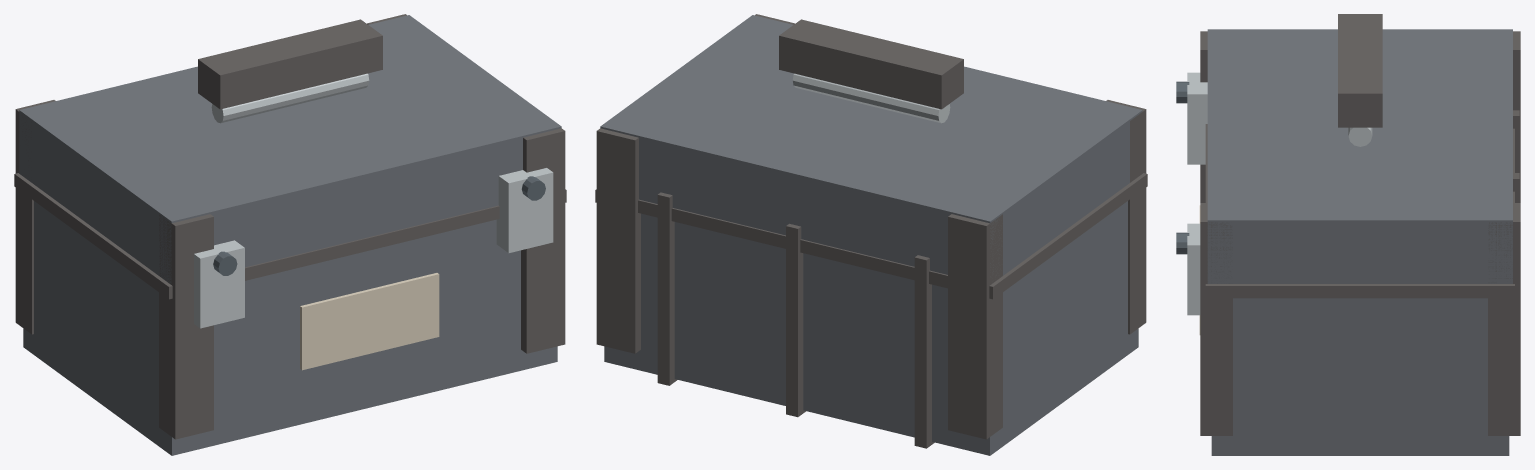
3 renders of one model, left to right at view 1: azimuth 30°, elevation 25°; view 2: azimuth 150°, elevation 25°; view 3: azimuth 270°, elevation 25°, orthographic.
Visible parts, largest first — view 1: TH-008__001__Raised box lid, TH-008__000__Rugged injection-molded body, TH-008__007__Corner reinforcements, TH-008__012__Rubber carry grip, TH-008__016__Scraped inventory label plate, TH-008__009__Corner reinforcements, TH-008__002__Gasket lid seam, TH-008__005__Steel lock claw, TH-008__003__Steel lock claw, TH-008__008__Corner reinforcements, TH-008__011__Carry handle steel axle; view 2: TH-008__001__Raised box lid, TH-008__000__Rugged injection-molded body, TH-008__008__Corner reinforcements, TH-008__012__Rubber carry grip, TH-008__010__Corner reinforcements, TH-008__002__Gasket lid seam, TH-008__007__Corner reinforcements, TH-008__015__Structural case ribs, TH-008__013__Structural case ribs, TH-008__014__Structural case ribs, TH-008__011__Carry handle steel axle; view 3: TH-008__001__Raised box lid, TH-008__000__Rugged injection-molded body, TH-008__010__Corner reinforcements, TH-008__009__Corner reinforcements, TH-008__012__Rubber carry grip, TH-008__002__Gasket lid seam, TH-008__003__Steel lock claw, TH-008__005__Steel lock claw, TH-008__008__Corner reinforcements, TH-008__007__Corner reinforcements, TH-008__011__Carry handle steel axle, TH-008__013__Structural case ribs.
Part boxes in pixels (x1,y1,x2,y2): TH-008__001__Raised box lid: (19, 15, 561, 284); TH-008__000__Rugged injection-molded body: (23, 201, 557, 455); TH-008__007__Corner reinforcements: (159, 214, 213, 439); TH-008__012__Rubber carry grip: (198, 19, 382, 109); TH-008__016__Scraped inventory label plate: (300, 273, 439, 370); TH-008__009__Corner reinforcements: (521, 128, 565, 353); TH-008__002__Gasket lid seam: (14, 173, 566, 299); TH-008__005__Steel lock claw: (496, 168, 553, 252); TH-008__003__Steel lock claw: (194, 240, 244, 328); TH-008__008__Corner reinforcements: (15, 100, 55, 334); TH-008__011__Carry handle steel axle: (211, 73, 369, 123); TH-008__001__Raised box lid: (600, 15, 1142, 276); TH-008__000__Rugged injection-molded body: (604, 201, 1138, 455); TH-008__008__Corner reinforcements: (948, 214, 1002, 439); TH-008__012__Rubber carry grip: (779, 19, 963, 109); TH-008__010__Corner reinforcements: (596, 128, 640, 353); TH-008__002__Gasket lid seam: (595, 173, 1147, 299); TH-008__007__Corner reinforcements: (1106, 100, 1146, 334); TH-008__015__Structural case ribs: (657, 192, 677, 385); TH-008__013__Structural case ribs: (914, 255, 934, 448); TH-008__014__Structural case ribs: (786, 223, 805, 417); TH-008__011__Carry handle steel axle: (792, 73, 950, 123); TH-008__001__Raised box lid: (1207, 29, 1512, 283); TH-008__000__Rugged injection-molded body: (1211, 298, 1509, 455); TH-008__010__Corner reinforcements: (1488, 203, 1520, 435); TH-008__009__Corner reinforcements: (1200, 203, 1232, 435); TH-008__012__Rubber carry grip: (1338, 14, 1382, 127); TH-008__002__Gasket lid seam: (1205, 124, 1514, 298); TH-008__003__Steel lock claw: (1187, 72, 1207, 164); TH-008__005__Steel lock claw: (1187, 223, 1200, 315); TH-008__008__Corner reinforcements: (1513, 31, 1520, 202); TH-008__007__Corner reinforcements: (1200, 31, 1207, 202); TH-008__011__Carry handle steel axle: (1348, 127, 1372, 146); TH-008__013__Structural case ribs: (1513, 110, 1519, 172).
Bounding box in the file's own units: 0.464 × 0.346 × 0.347.
